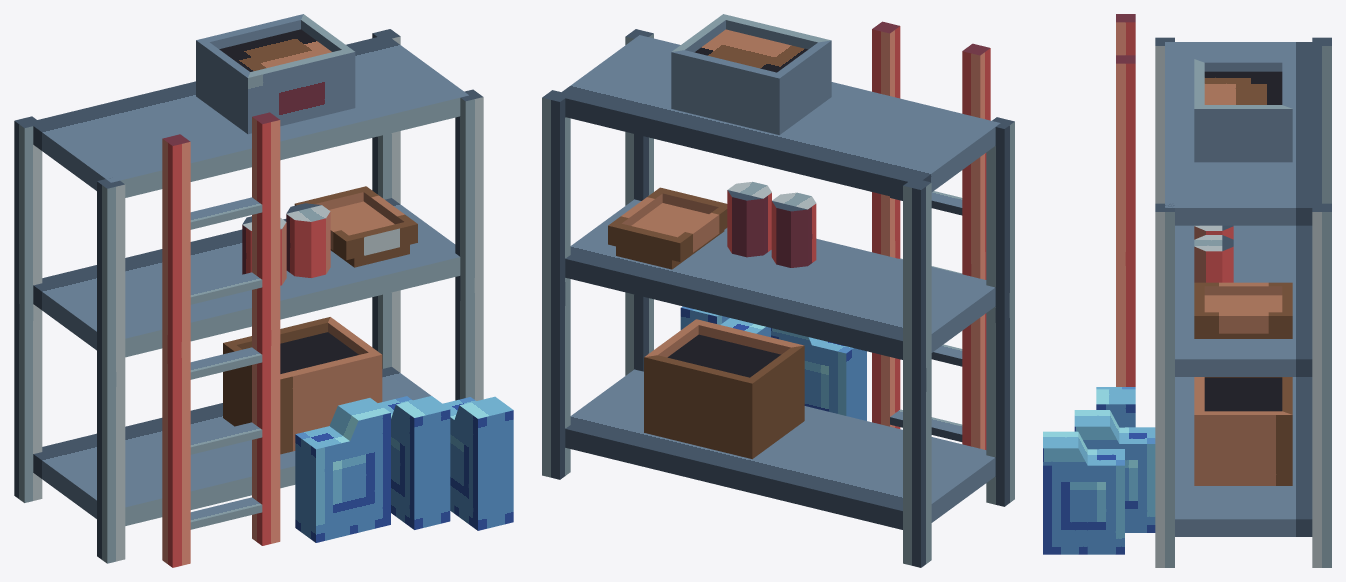
File: 05-shelves.fbx
3 renders of one model, left to right at view 1: azimuth 30°, elevation 25°; view 2: azimuth 150°, elevation 25°; view 3: azimuth 270°, elevation 25°, orthographic. The views are drawn at different scales.
Visible parts, largest first — view 1: Cube.006, Cube.005, Box.000, Cube.001, Ladder.001, Ladder.000, Jerrycan, Box.002, Cube.003, Cube.004, Cube, Jerrycan.002 (+10 smaller); view 2: Cube.006, Cube.005, Cube.001, Box.002, Box.000, Cube.004, Cube.002, Cube.003, Ladder.001, Box.001, Ladder.000, Jerrycan (+6 smaller); view 3: Cube.006, Cube.005, Cube.001, Box.002, Box.000, Jerrycan.002, Cube.002, Cube, Ladder.000, Box.001, Jerrycan.001, Cylinder.002 (+5 smaller).
Part boxes in pixels (x1,y1,x2,y2): Cube.006: (33, 37, 468, 197); Cube.005: (33, 198, 460, 357); Box.000: (196, 14, 355, 134); Cube.001: (33, 366, 431, 525); Ladder.001: (162, 134, 190, 567); Ladder.000: (252, 112, 280, 545); Jerrycan: (295, 398, 390, 542); Box.002: (223, 317, 382, 454); Cube.003: (97, 178, 125, 563); Cube.004: (14, 116, 42, 502); Cube: (455, 89, 483, 400); Jerrycan.002: (443, 396, 513, 530); Cube.006: (562, 35, 1000, 199); Cube.005: (565, 199, 995, 359); Cube.001: (565, 369, 995, 529); Box.002: (644, 319, 804, 459); Box.000: (671, 14, 831, 134); Cube.004: (903, 178, 931, 567); Cube.002: (542, 90, 570, 479); Cube.003: (986, 117, 1014, 506); Ladder.001: (962, 43, 990, 449); Box.001: (608, 187, 727, 269); Ladder.000: (872, 21, 900, 428); Jerrycan: (771, 328, 866, 420); Cube.006: (1165, 42, 1321, 225); Cube.005: (1175, 225, 1312, 376); Cube.001: (1175, 377, 1312, 536); Box.002: (1194, 377, 1292, 485); Box.000: (1194, 59, 1292, 162); Jerrycan.002: (1043, 431, 1124, 554); Cube.002: (1312, 203, 1331, 567); Cube: (1155, 203, 1174, 567); Ladder.000: (1116, 55, 1135, 386); Box.001: (1194, 282, 1292, 338); Jerrycan.001: (1074, 410, 1155, 532); Cylinder.002: (1194, 235, 1233, 282).
Bounding box in the file's own units: 420 × 460 × 294.
Materials: 1 (1 with a texture image).
